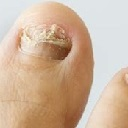Nail Fungal Infection: (17, 21, 83, 57)
